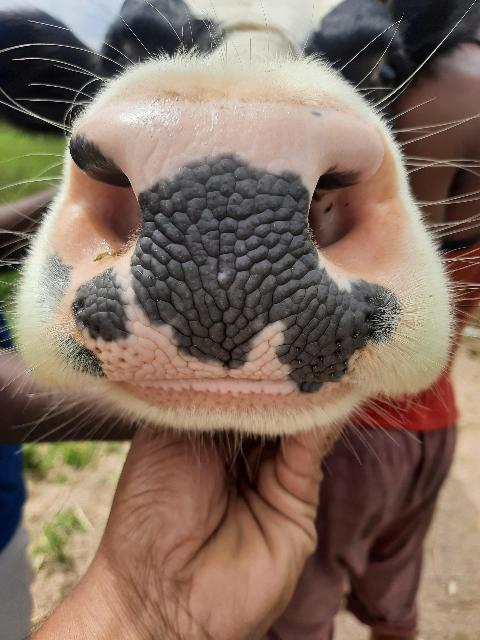Muzzle: (105, 116, 343, 380)
